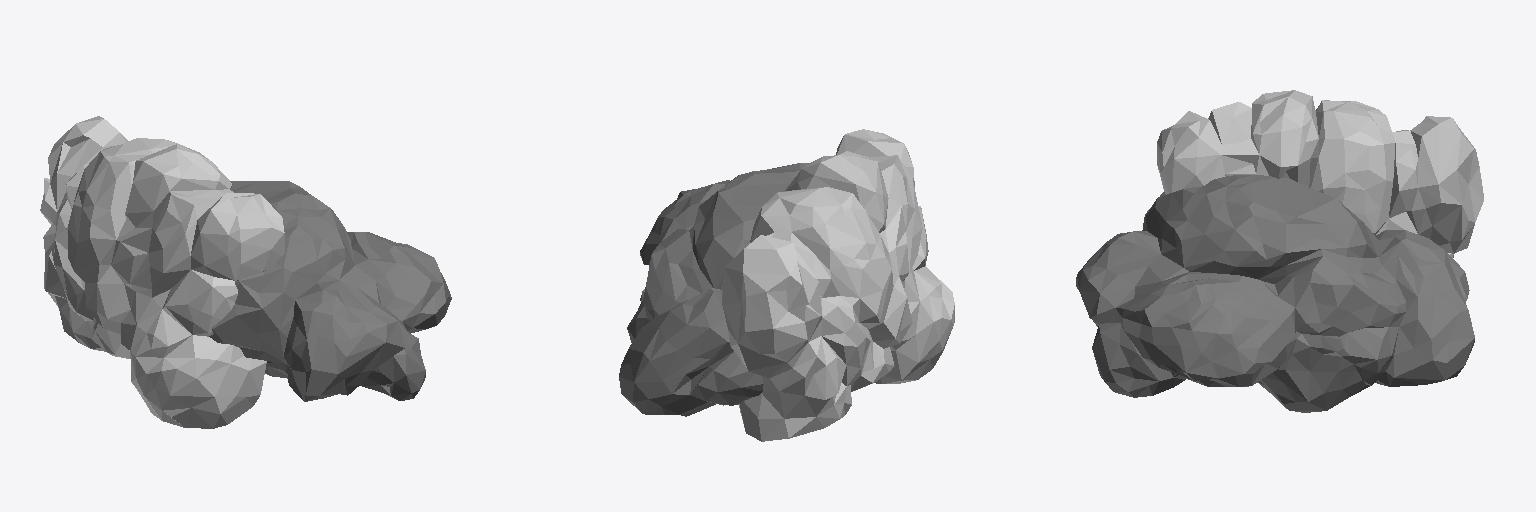
File: beachRock3.obj
3 views of the same model, side by side, from view 1: azimuth 30°, elevation 25°; view 2: azimuth 150°, elevation 25°; view 3: azimuth 270°, elevation 25° (orthographic).
Parts seen in each view (by area): view 1: rocks_03, rocks_02; view 2: rocks_03, rocks_02; view 3: rocks_02, rocks_03.
Part boxes in pixels (left/top/right/bottom): rocks_03: left=40, top=116, right=284, bottom=428; rocks_02: left=209, top=181, right=451, bottom=401; rocks_03: left=722, top=129, right=954, bottom=441; rocks_02: left=619, top=163, right=809, bottom=416; rocks_02: left=1076, top=175, right=1474, bottom=412; rocks_03: left=1157, top=90, right=1483, bottom=257.
Size of the model in its own units: 3.83 by 3.01 by 4.55.